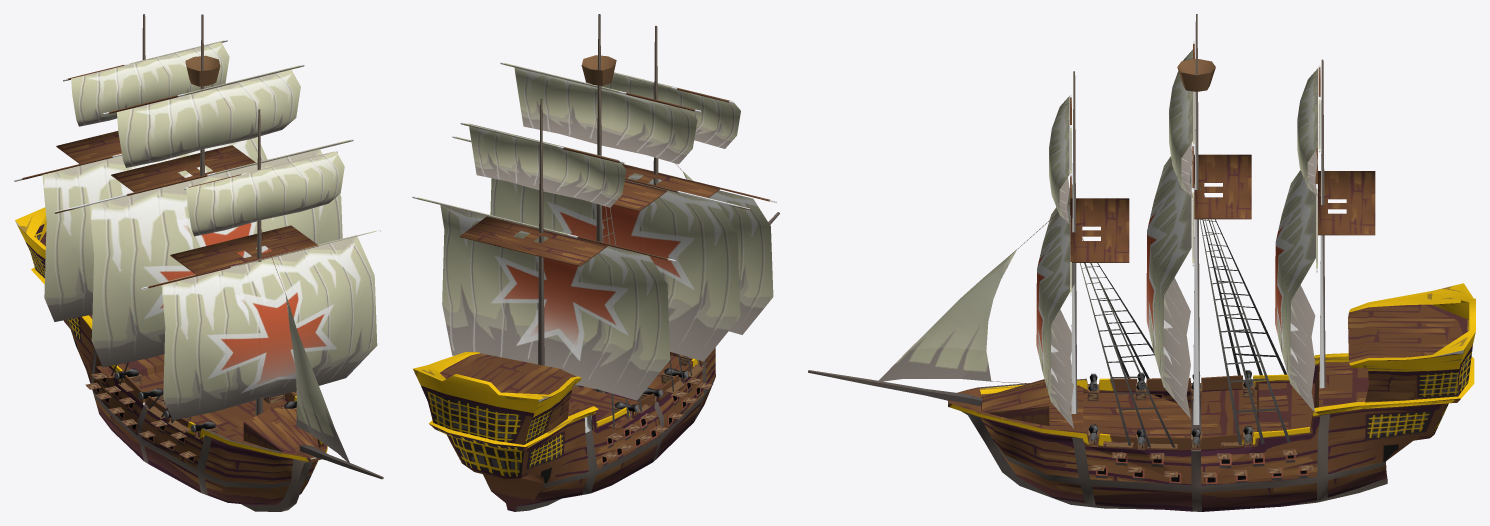
Rendered from galleone_05.01.2017.fbx.
The picture shows the model from 3 angles, left to right: view 1: azimuth 30°, elevation 25°; view 2: azimuth 150°, elevation 25°; view 3: azimuth 270°, elevation 25°; orthographic projection. The views are drawn at different scales.
Parts seen in each view (by area): view 1: AgeOfSails_Galleon_High_Sail, AgeOfSails_Galleon_High_1; view 2: AgeOfSails_Galleon_High_Sail, AgeOfSails_Galleon_High_1; view 3: AgeOfSails_Galleon_High_1, AgeOfSails_Galleon_High_Sail.
Part boxes in pixels (x1,y1,x2,y2): AgeOfSails_Galleon_High_Sail: [42, 42, 377, 463]; AgeOfSails_Galleon_High_1: [14, 14, 383, 511]; AgeOfSails_Galleon_High_Sail: [440, 67, 773, 400]; AgeOfSails_Galleon_High_1: [412, 14, 779, 511]; AgeOfSails_Galleon_High_1: [808, 14, 1475, 511]; AgeOfSails_Galleon_High_Sail: [878, 49, 1317, 428].
Bounding box in the file's own units: 5020 × 7364 × 9039.
Materials: 3 (3 with a texture image).
